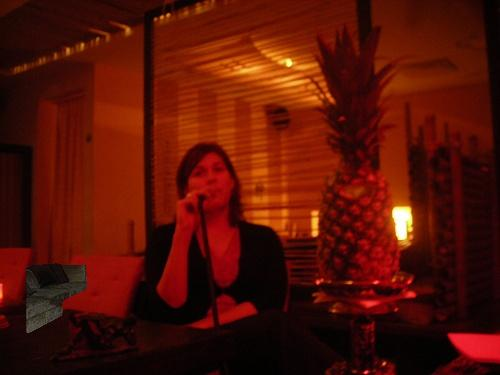tampered: (27, 264, 87, 333)
